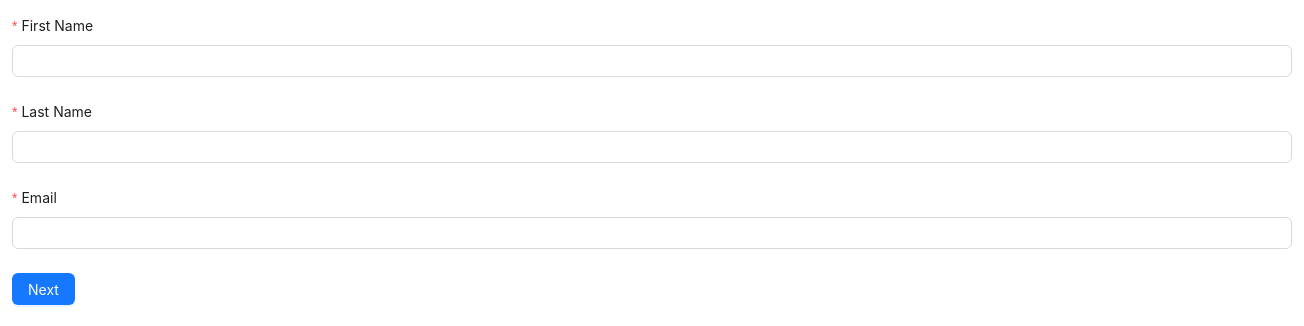
Scenario: FirstStep › displays an error message when required fields are not filled
The image size is (1304, 326).
Click the button "Next": (43, 289) [12,273,75,305]
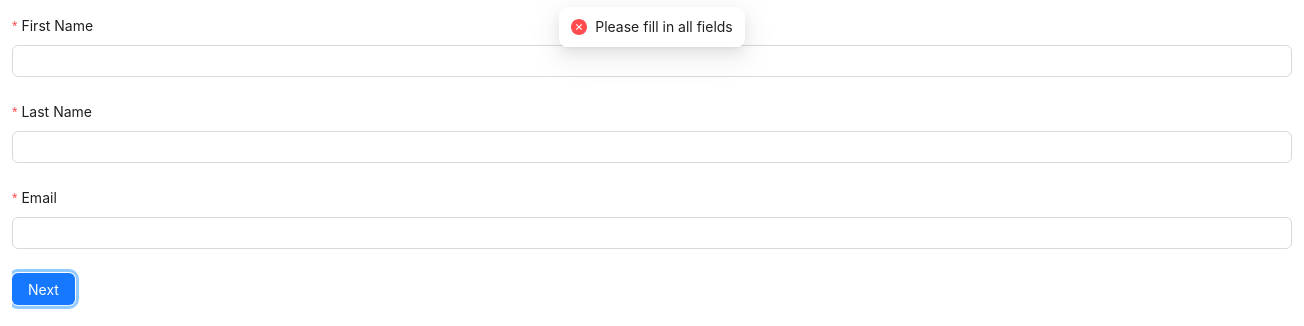
Expected: the text "Please fill in all fields" is shown, [595,16,733,38]
